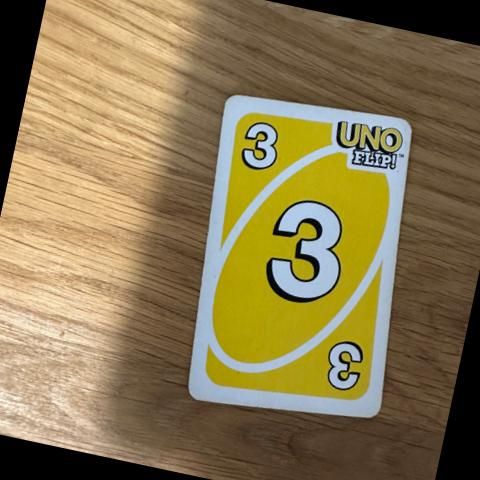lyellow-3: (225, 103, 304, 185)
